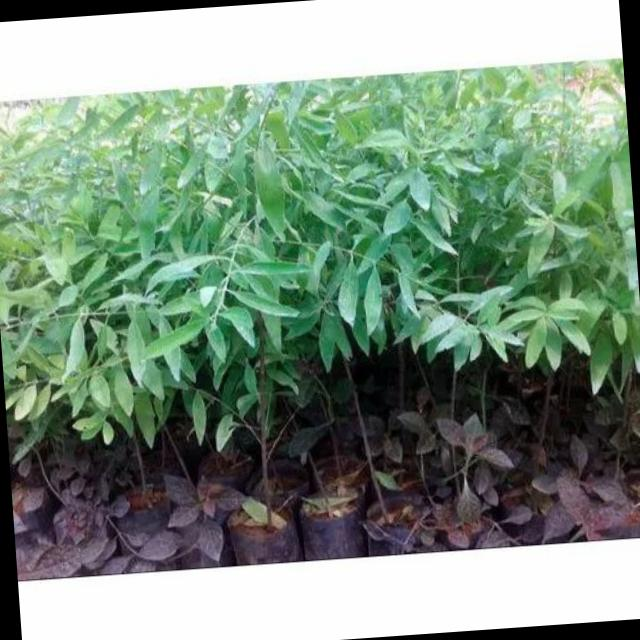Medicinal-Sandalwood: (0, 65, 640, 501)
